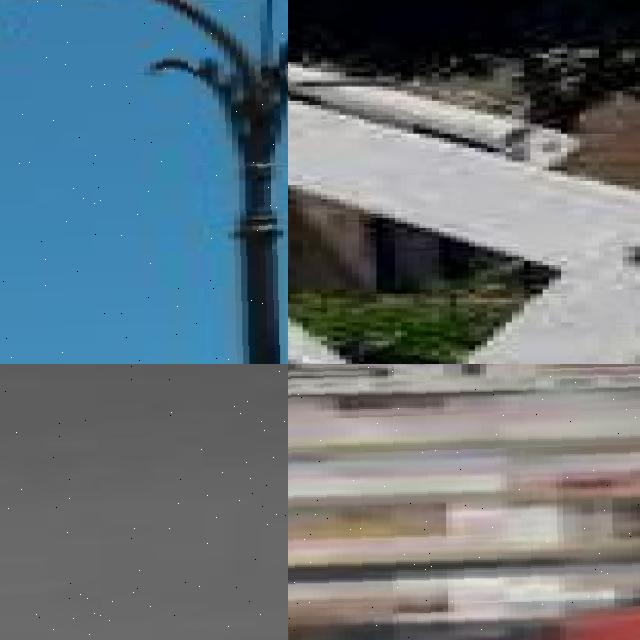street light: (0, 0, 288, 364), (288, 364, 640, 640), (0, 364, 288, 640)
